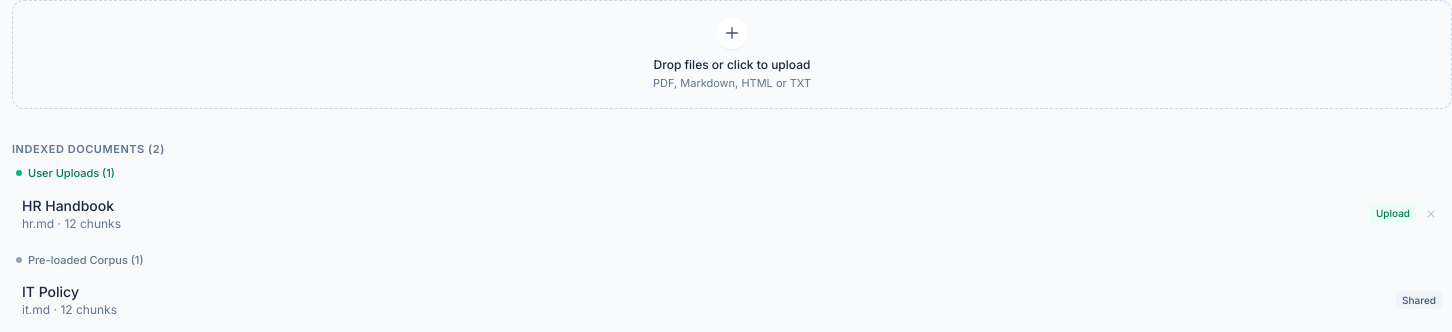
Scenario: removes the session's own upload but not shared documents
The image size is (1452, 332).
Click the button named "Remove hr.md".
click(1431, 214)  # box [1420, 202, 1442, 224]
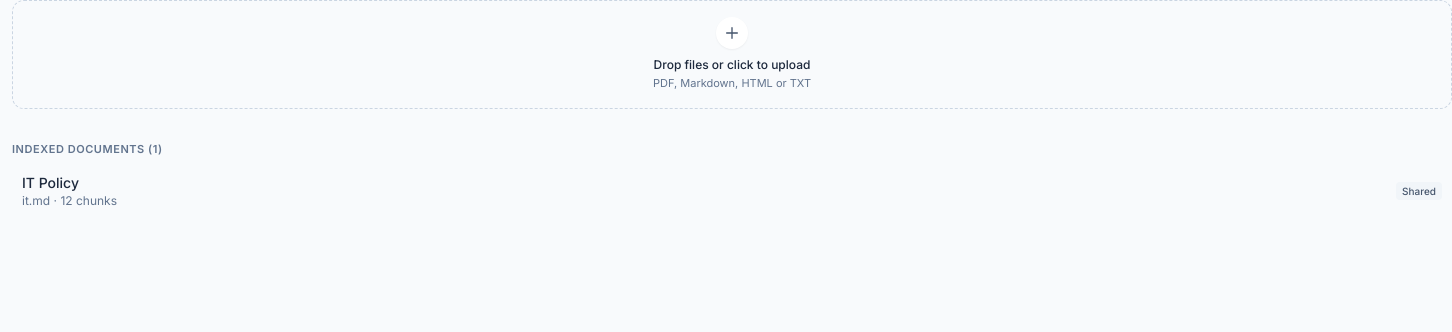
Check: the text "IT Policy" is shown, box [22, 174, 79, 191]
Check: the button "HR Handbook" is gone
